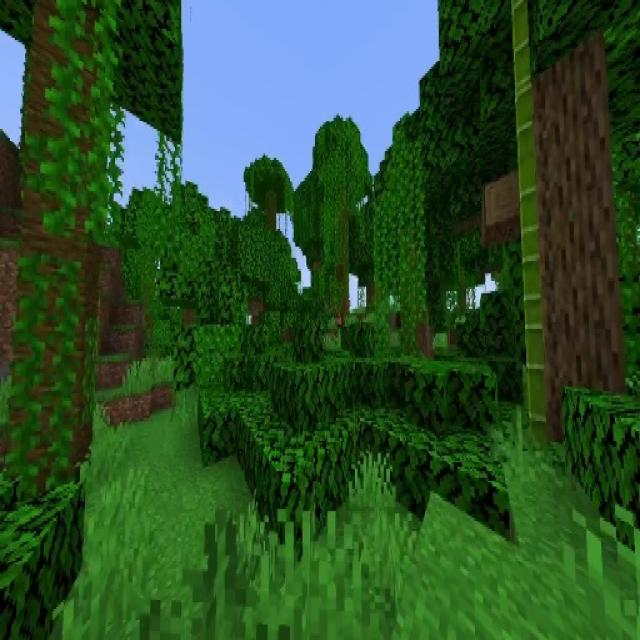jungle_log: (11, 2, 112, 487)
oak_log: (538, 36, 620, 411)
